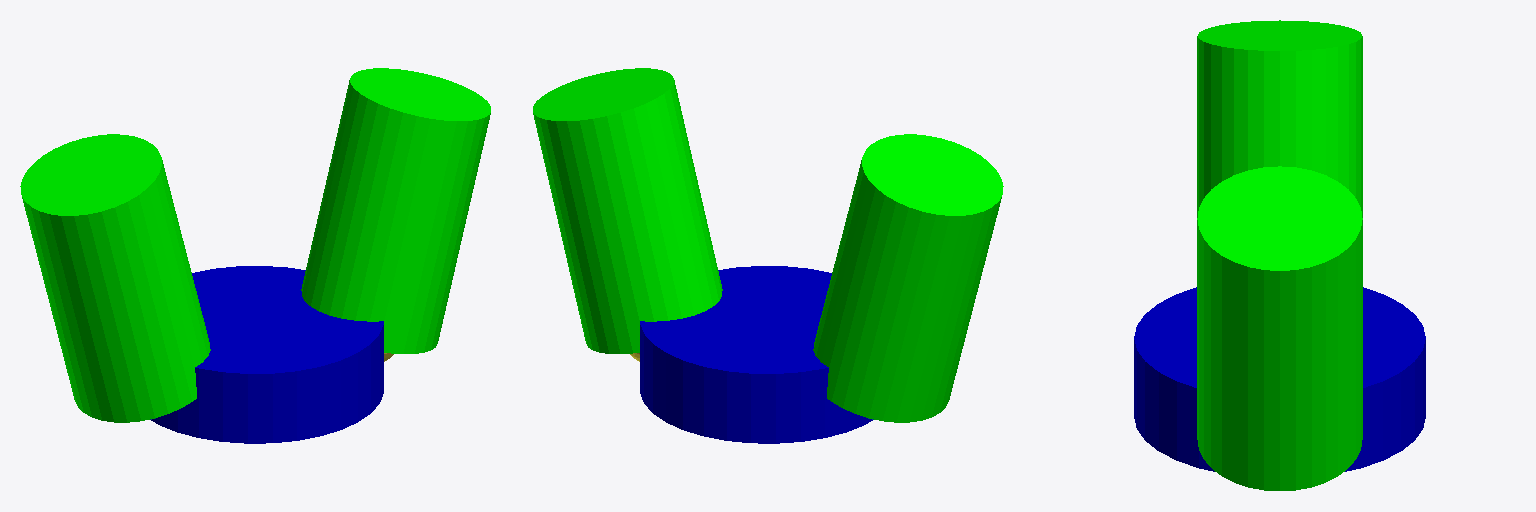
The robot description file, URDF, robot "gripper_2f_1j":
<?xml version='1.0' encoding='UTF-8'?>
<robot name="gripper_2f_1j">
  <link name="palm">
    <inertial>
      <origin xyz="0.0 0.0 0.0" rpy="0.0 -0.0 0.0"/>
      <mass value="1.0"/>
      <inertia ixx="1.0" ixy="0.0" ixz="0.0" iyy="1.0" iyz="0.0" izz="1.0"/>
    </inertial>
    <visual>
      <geometry>
        <cylinder radius="0.05" length="0.03"/>
      </geometry>
      <material name="blue"/>
      <origin xyz="0.0 0.0 0.0" rpy="0.0 -0.0 0.0"/>
    </visual>
    <collision>
      <geometry>
        <cylinder radius="0.05" length="0.03"/>
      </geometry>
      <origin xyz="0.0 0.0 0.0" rpy="0.0 0.0 0.0"/>
    </collision>
  </link>
  <link name="f11">
    <inertial>
      <origin xyz="0.0 0.0 0.0" rpy="0.0 -0.0 0.0"/>
      <mass value="1.0"/>
      <inertia ixx="1.0" ixy="0.0" ixz="0.0" iyy="1.0" iyz="0.0" izz="1.0"/>
    </inertial>
    <visual>
      <geometry>
        <cylinder radius="0.028314886575929087" length="0.0976050622875407"/>
      </geometry>
      <material name="green"/>
      <origin xyz="0.0 0.0 0.04880253114377035" rpy="0.0 -0.0 0.0"/>
    </visual>
    <collision>
      <geometry>
        <cylinder radius="0.028314886575929087" length="0.0976050622875407"/>
      </geometry>
      <origin xyz="0.0 0.0 0.05" rpy="0.0 0.0 0.0"/>
    </collision>
  </link>
  <link name="f21">
    <inertial>
      <origin xyz="0.0 0.0 0.0" rpy="0.0 -0.0 0.0"/>
      <mass value="1.0"/>
      <inertia ixx="1.0" ixy="0.0" ixz="0.0" iyy="1.0" iyz="0.0" izz="1.0"/>
    </inertial>
    <visual>
      <geometry>
        <cylinder radius="0.028314886575929087" length="0.0976050622875407"/>
      </geometry>
      <material name="green"/>
      <origin xyz="0.0 0.0 0.04880253114377035" rpy="0.0 -0.0 0.0"/>
    </visual>
    <collision>
      <geometry>
        <cylinder radius="0.028314886575929087" length="0.0976050622875407"/>
      </geometry>
      <origin xyz="0.0 0.0 0.05" rpy="0.0 0.0 0.0"/>
    </collision>
  </link>
  <link name="f11_base">
    <inertial>
      <origin xyz="0.0 0.0 0.0" rpy="0.0 -0.0 0.0"/>
      <mass value="1.0"/>
      <inertia ixx="1.0" ixy="0.0" ixz="0.0" iyy="1.0" iyz="0.0" izz="1.0"/>
    </inertial>
    <visual>
      <geometry>
        <sphere radius="0.015"/>
      </geometry>
      <origin xyz="0.0 0.0 0.0" rpy="0.0 -0.0 0.0"/>
    </visual>
  </link>
  <link name="f21_base">
    <inertial>
      <origin xyz="0.0 0.0 0.0" rpy="0.0 -0.0 0.0"/>
      <mass value="1.0"/>
      <inertia ixx="1.0" ixy="0.0" ixz="0.0" iyy="1.0" iyz="0.0" izz="1.0"/>
    </inertial>
    <visual>
      <geometry>
        <sphere radius="0.015"/>
      </geometry>
      <origin xyz="0.0 0.0 0.0" rpy="0.0 -0.0 0.0"/>
    </visual>
  </link>
  <joint name="f11_joint" type="revolute">
    <dynamics damping="100.0" friction="1.0"/>
    <limit effort="30.0" velocity="2.0" lower="-0.6" upper="0.25"/>
    <parent link="f11_base"/>
    <child link="f11"/>
    <axis xyz="0. 1. 0."/>
    <origin xyz="0.0 0.0 0.0" rpy="0.0 0.25 0.0"/>
  </joint>
  <joint name="f21_joint" type="revolute">
    <dynamics damping="100.0" friction="1.0"/>
    <limit effort="30.0" velocity="2.0" lower="-0.6" upper="0.25"/>
    <parent link="f21_base"/>
    <child link="f21"/>
    <axis xyz=" 0. -1.  0."/>
    <origin xyz="0.0 0.0 0.0" rpy="0.0 -0.25 0.0"/>
  </joint>
  <joint name="f11_base_joint" type="fixed">
    <parent link="palm"/>
    <child link="f11_base"/>
    <axis xyz="1. 0. 0."/>
    <origin xyz="0.05 0.0 0.0" rpy="0.0 0.0 0.0"/>
  </joint>
  <joint name="f21_base_joint" type="fixed">
    <parent link="palm"/>
    <child link="f21_base"/>
    <axis xyz="1. 0. 0."/>
    <origin xyz="-0.05 -0.0 0.0" rpy="0.0 0.0 0.0"/>
  </joint>
  <material name="blue">
    <color rgba="0.  0.  0.8 1. "/>
  </material>
  <material name="green">
    <color rgba="0. 1. 0. 1."/>
  </material>
</robot>

--- What the picture shows (computed from the rendered views, not written in the file) ---
The picture shows the robot from 3 angles, left to right: view 1: azimuth 30°, elevation 25°; view 2: azimuth 150°, elevation 25°; view 3: azimuth 270°, elevation 25°; orthographic projection.
Robot: gripper_2f_1j — 5 links, 4 joints (2 revolute, 2 fixed); root link palm; default pose: all joints at 0.
Links seen in each view (by area): view 1: f21, f11, palm; view 2: f21, f11, palm; view 3: f11, f21, palm.
Boxes of the visible links, box(x1,y1,x2,y2) form: f21: box(20, 134, 210, 422); f11: box(301, 68, 490, 353); palm: box(151, 266, 383, 443); f21: box(813, 134, 1003, 422); f11: box(533, 68, 722, 353); palm: box(640, 266, 872, 443); f11: box(1197, 166, 1362, 490); f21: box(1197, 20, 1362, 217); palm: box(1134, 287, 1425, 471).
Size in the robot's own frame: 0.2032 by 0.1 by 0.1166 metres.
Geometry: primitives only (box / cylinder / sphere), no mesh files.
